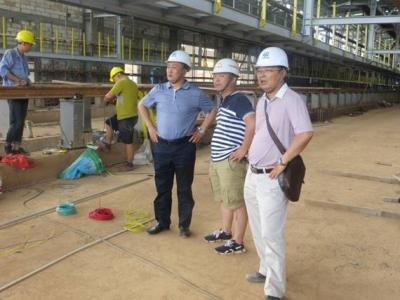white: (252, 45, 292, 92), (211, 56, 239, 92), (164, 48, 192, 81)
yellow: (15, 29, 36, 54), (108, 64, 126, 83)
